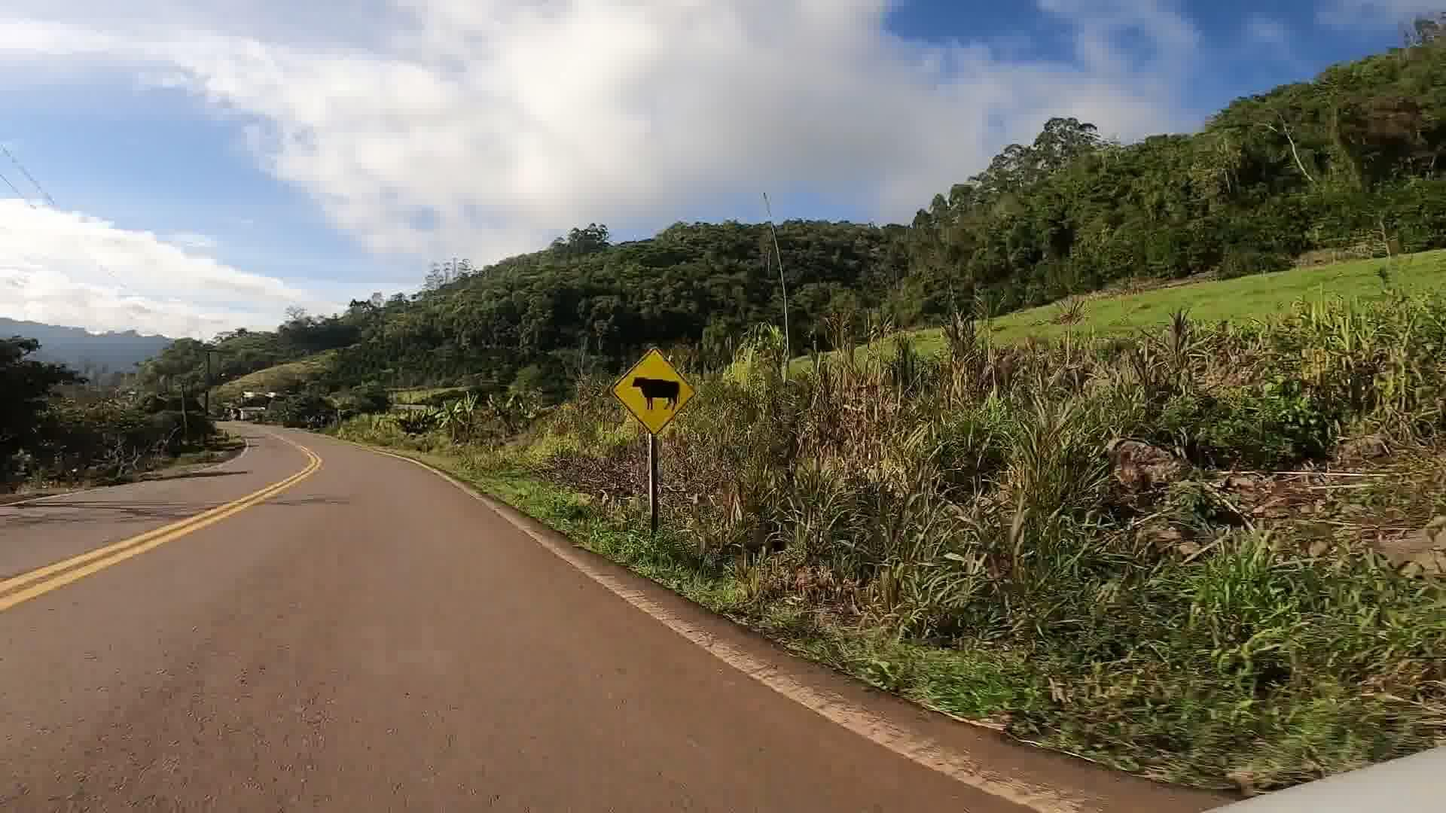A-35: (609, 349, 697, 435)
